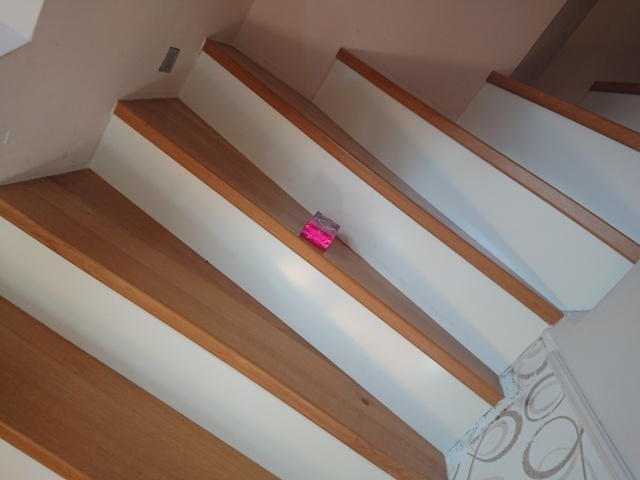Barcaffe Classic Original 225g: (298, 209, 342, 254)
